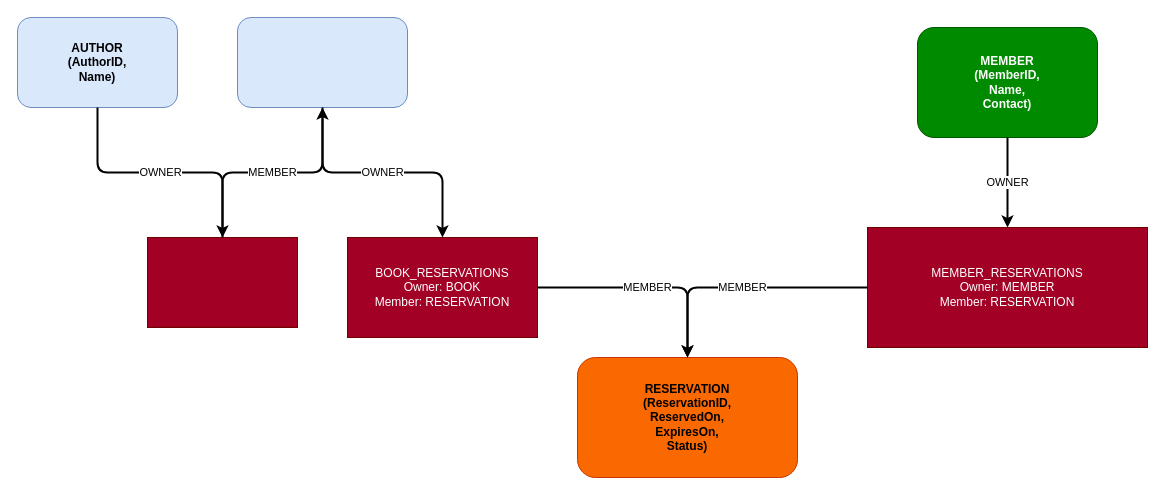
The diagram is 1165 pixels wide and 495 high, and some of its shapes have lost their labels. Each missing label, with the centre of its shape:
AUTHOR_BOOKS Owner: AUTHOR Member: BOOK: the point at 222,282
BOOK (BookID, Title, ISBN): the point at 322,62
